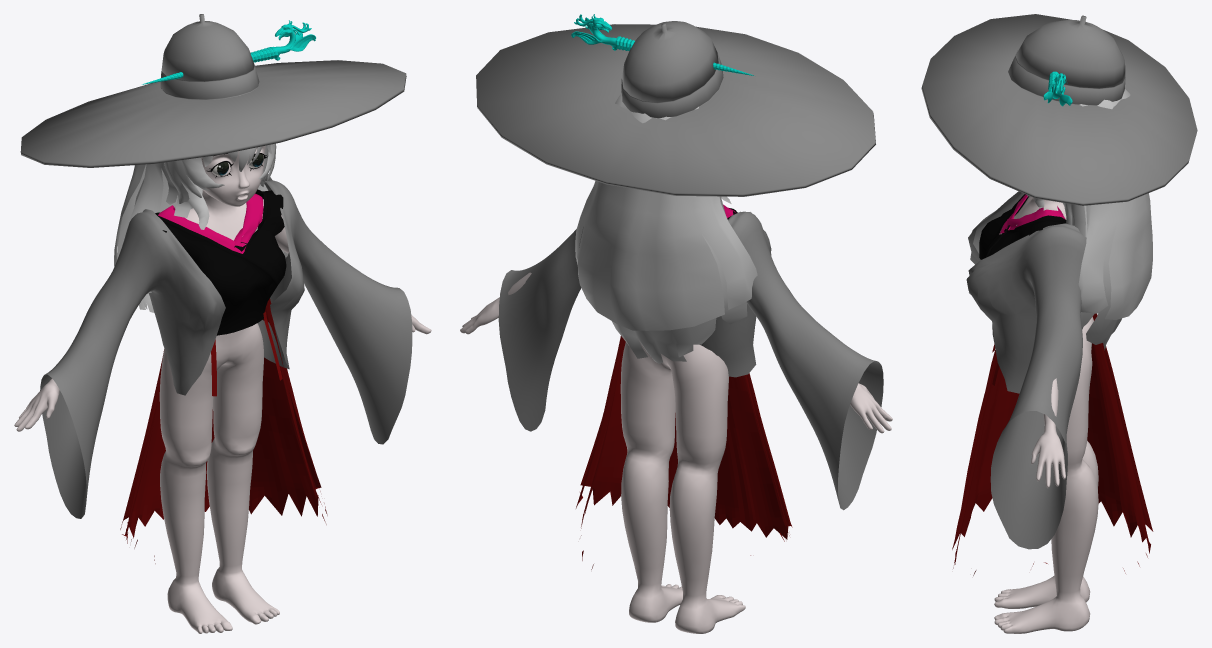
The model's file is 9-木婉清-站立.fbx.
The picture shows the model from 3 angles, left to right: view 1: azimuth 30°, elevation 25°; view 2: azimuth 150°, elevation 25°; view 3: azimuth 270°, elevation 25°; orthographic projection. The views are drawn at different scales.
Visible parts, largest first — view 1: pasted__polySurface2, body, pasted__nalan_shanyi_8, pasted__nalan_shanyi_9, Tposs1:Mesh, pasted__polySurface399, pasted__PoPori_F_hair00_skel, pasted__polySurface400, xiaowu_end1:polySurface5; view 2: pasted__polySurface2, body, pasted__PoPori_F_hair00_skel, pasted__nalan_shanyi_8, Tposs1:Mesh, pasted__nalan_shanyi_9, xiaowu_end1:polySurface5; view 3: pasted__polySurface2, pasted__nalan_shanyi_9, body, Tposs1:Mesh, pasted__PoPori_F_hair00_skel, pasted__polySurface399, pasted__nalan_shanyi_8, pasted__polySurface400, xiaowu_end1:polySurface5.
Part boxes in pixels (x1,y1,x2,y2): pasted__polySurface2: [20, 14, 406, 167]; body: [14, 145, 431, 633]; pasted__nalan_shanyi_8: [40, 209, 225, 518]; pasted__nalan_shanyi_9: [258, 180, 412, 444]; Tposs1:Mesh: [120, 298, 327, 563]; pasted__polySurface399: [155, 189, 286, 335]; pasted__PoPori_F_hair00_skel: [114, 89, 283, 312]; pasted__polySurface400: [158, 193, 263, 253]; xiaowu_end1:polySurface5: [274, 20, 315, 60]; pasted__polySurface2: [476, 21, 875, 196]; body: [460, 272, 892, 633]; pasted__PoPori_F_hair00_skel: [575, 93, 757, 363]; pasted__nalan_shanyi_8: [700, 211, 883, 510]; Tposs1:Mesh: [576, 336, 792, 569]; pasted__nalan_shanyi_9: [498, 227, 583, 431]; xiaowu_end1:polySurface5: [571, 14, 617, 50]; pasted__polySurface2: [921, 14, 1197, 205]; pasted__nalan_shanyi_9: [966, 223, 1086, 549]; body: [994, 186, 1098, 633]; Tposs1:Mesh: [952, 313, 1153, 575]; pasted__PoPori_F_hair00_skel: [1008, 73, 1152, 350]; pasted__polySurface399: [979, 194, 1066, 259]; pasted__nalan_shanyi_8: [968, 191, 1024, 343]; pasted__polySurface400: [1000, 194, 1065, 233]; xiaowu_end1:polySurface5: [1043, 73, 1072, 106].
Bounding box in the file's own units: 10.68 × 14.4 × 6.01.
Materials: 10 (1 with a texture image).
